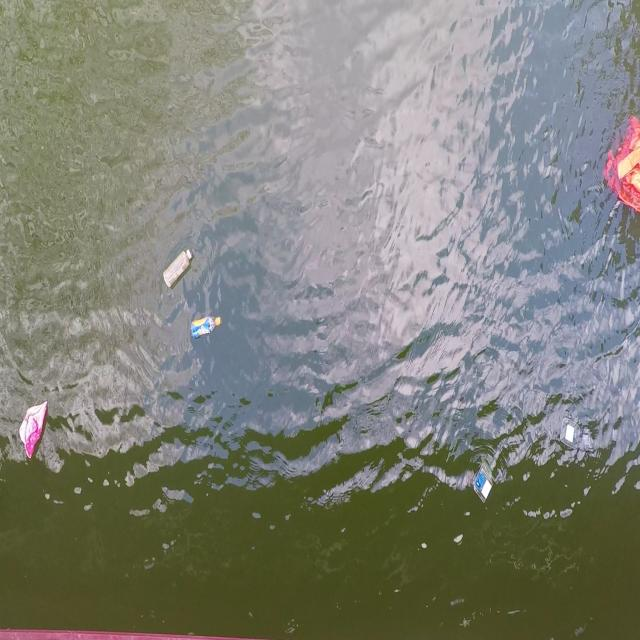Bouteille plastique: (161, 240, 196, 294), (188, 312, 225, 343)
